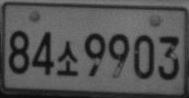0: (133, 33, 155, 79)
3: (158, 36, 179, 80)
4: (30, 32, 55, 75)
8: (7, 29, 30, 75)
9: (107, 33, 130, 79), (84, 33, 106, 76)
소: (57, 40, 78, 76)
